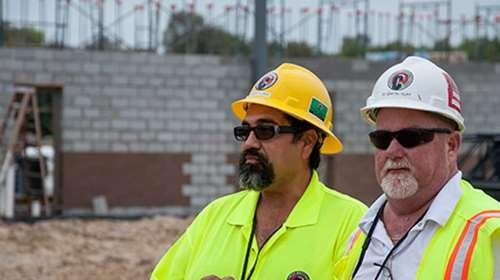helmet: (231, 65, 343, 158), (362, 56, 467, 131)
